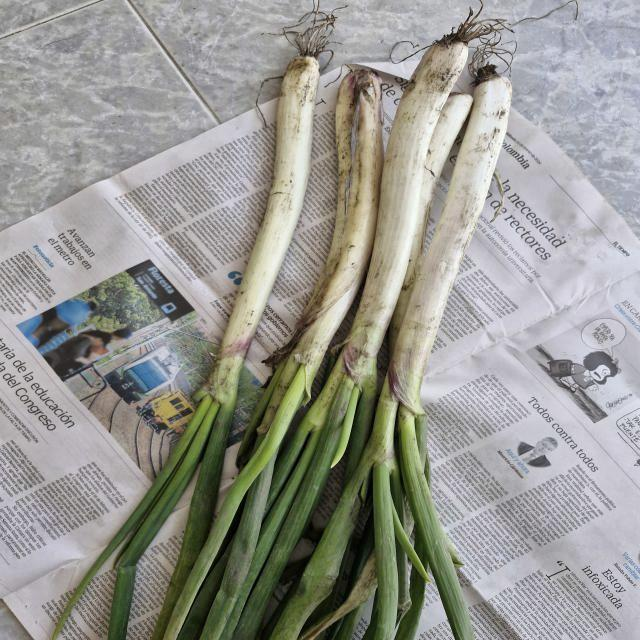green_onion: (63, 38, 336, 640), (260, 19, 521, 640)
